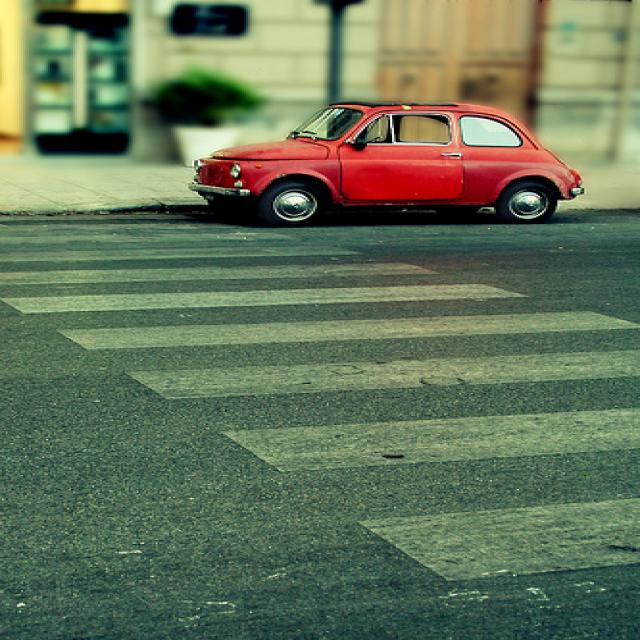Car: (159, 92, 603, 241)
